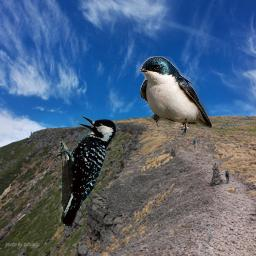Swallow: (140, 56, 214, 134)
Woodpecker: (53, 114, 119, 226)
